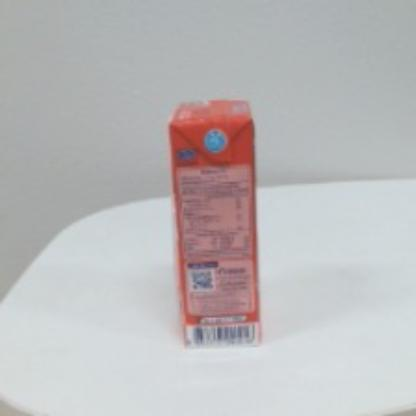Others: (169, 101, 260, 347)
